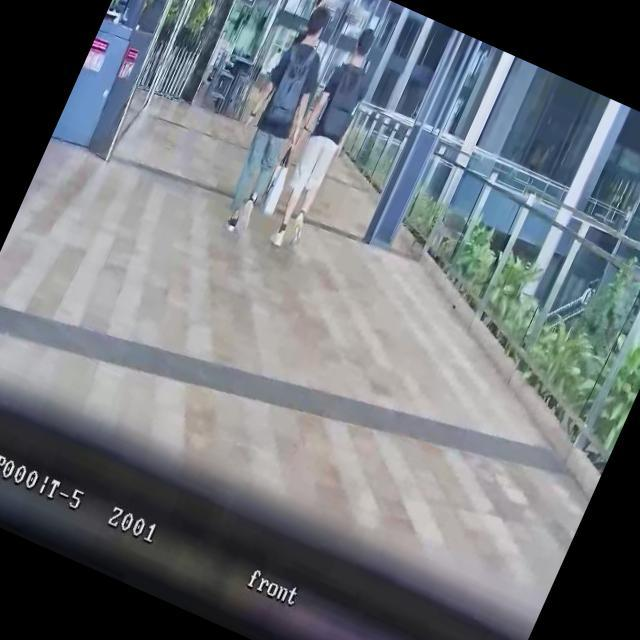person: (204, 0, 351, 239), (254, 21, 391, 256)
